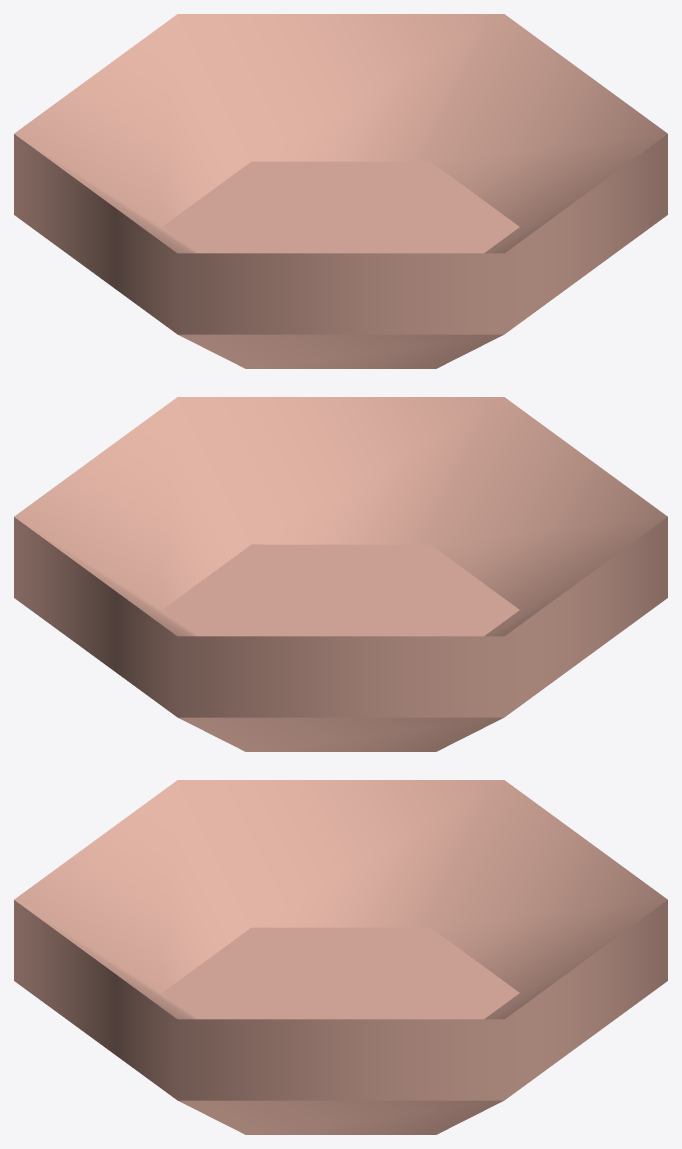
The model's file is n4_plate_002_lev4.glb.
The picture shows the model from 3 angles, top to bottom: view 1: azimuth 30°, elevation 25°; view 2: azimuth 150°, elevation 25°; view 3: azimuth 270°, elevation 25°; orthographic projection.
Visible parts, largest first — view 1: n4_plate_002_lev4; view 2: n4_plate_002_lev4; view 3: n4_plate_002_lev4.
Boxes of the visible parts, bbox=[...] form: n4_plate_002_lev4: bbox=[14, 14, 667, 368]; n4_plate_002_lev4: bbox=[14, 397, 667, 751]; n4_plate_002_lev4: bbox=[14, 780, 667, 1134].
Size of the model in its own units: 0.4267 by 0.1375 by 0.4927.
1 material, 1 textured.
